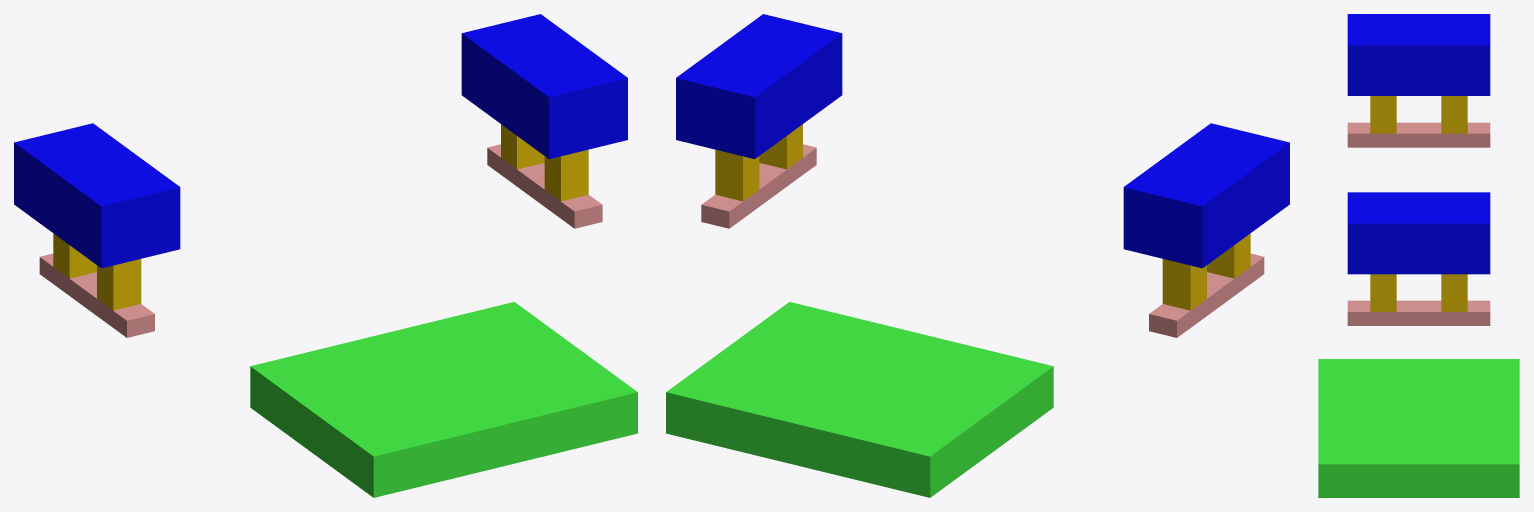
File: sky130_fd_sc_hd__fill_2.obj
3 renders of one model, left to right at view 1: azimuth 30°, elevation 25°; view 2: azimuth 150°, elevation 25°; view 3: azimuth 270°, elevation 25°, orthographic. The views are drawn at different scales.
Visible parts, largest first — view 1: nwell, metal1, mcon, li; view 2: nwell, metal1, mcon, li; view 3: nwell, metal1, li, mcon.
Boxes of the visible parts, left/top/right/bottom form: nwell: left=250, top=302, right=637, bottom=497; metal1: left=14, top=14, right=627, bottom=268; mcon: left=53, top=124, right=588, bottom=310; li: left=39, top=144, right=602, bottom=337; nwell: left=666, top=302, right=1053, bottom=497; metal1: left=676, top=14, right=1289, bottom=268; mcon: left=715, top=124, right=1250, bottom=310; li: left=701, top=144, right=1264, bottom=337; nwell: left=1318, top=359, right=1519, bottom=497; metal1: left=1347, top=14, right=1490, bottom=274; li: left=1347, top=122, right=1490, bottom=325; mcon: left=1370, top=96, right=1467, bottom=311.
Bounding box in the file's own units: 3.2 × 1.98 × 1.3.
